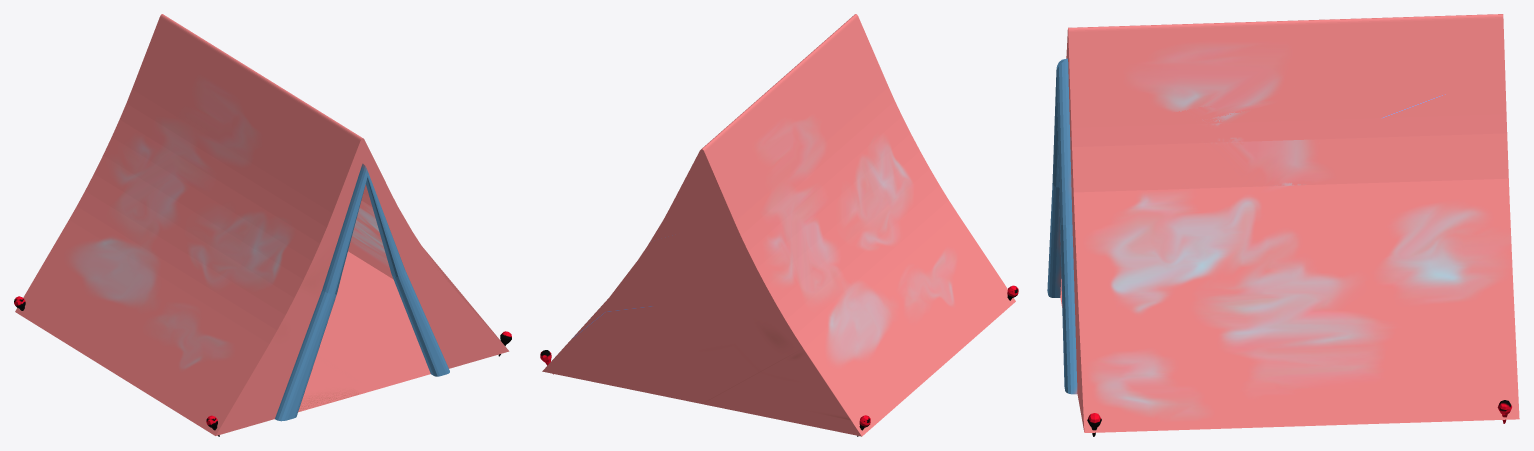
File: tent1.glb
3 renders of one model, left to right at view 1: azimuth 30°, elevation 25°; view 2: azimuth 150°, elevation 25°; view 3: azimuth 270°, elevation 25°, orthographic. The views are drawn at different scales.
Visible parts, largest first — view 1: Plane.001; view 2: Plane.001; view 3: Plane.001.
Part boxes in pixels (x1,y1,x2,y2): Plane.001: [15, 14, 509, 435]; Plane.001: [542, 14, 1015, 436]; Plane.001: [1047, 14, 1519, 432].
Size of the model in its own units: 6.28 by 4.62 by 6.16.
3 materials, 3 textured.
